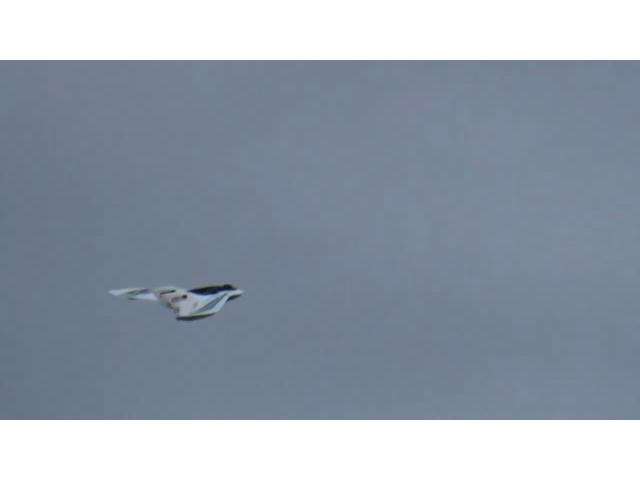Anti-Drone: (108, 280, 244, 322)
